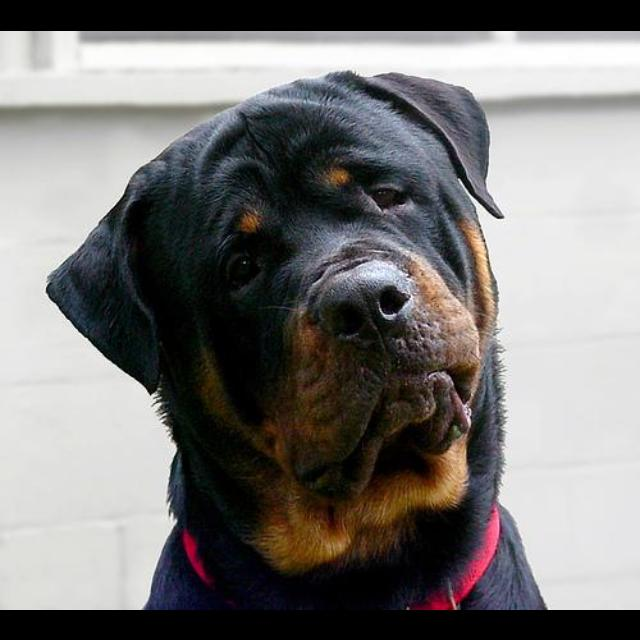rottweiler: (45, 69, 560, 610)
